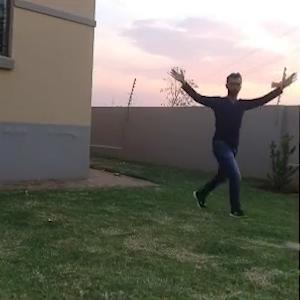takeoff: (168, 63, 299, 220)
